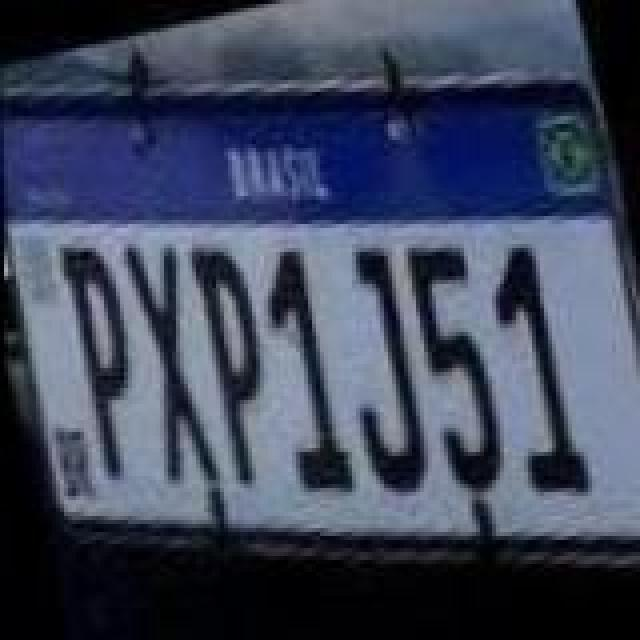1: (472, 238, 592, 506), (242, 248, 358, 504)
5: (394, 234, 518, 498)
J: (316, 242, 444, 502)
P: (178, 236, 294, 488), (48, 230, 160, 482)
X: (110, 230, 234, 494)
